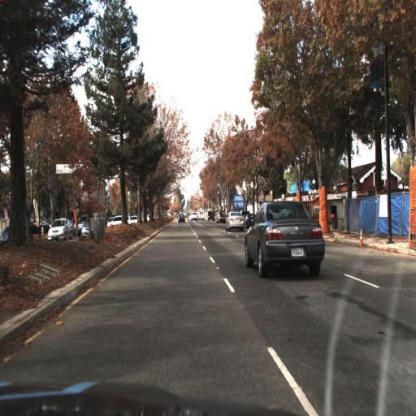car: (244, 200, 327, 283), (50, 217, 77, 243), (80, 217, 103, 240), (227, 210, 245, 236), (108, 215, 126, 231), (129, 215, 141, 232), (177, 210, 187, 227), (189, 210, 199, 226)
